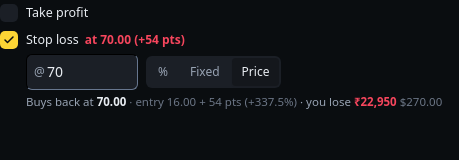
it: Price: the level itself › [critical] a stop typed under the entry is refused under the box
Replace the text in the field named "stop price" with "12" at point(82, 72), box [26,54,138,90]
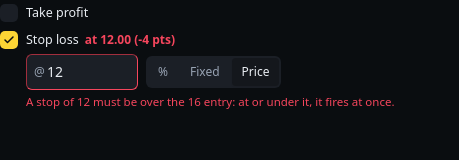
Now the message shows "A stop of 12 must be over the 16 entry", box [26,94,394,108]
